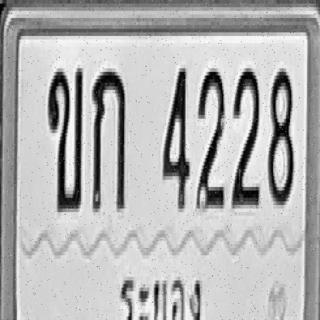A01: (92, 66, 125, 210)
A02: (47, 65, 82, 212)
N02: (196, 65, 225, 209), (231, 67, 260, 207)
N04: (162, 65, 190, 209)
N08: (267, 65, 293, 205)
P53: (116, 270, 205, 320)
